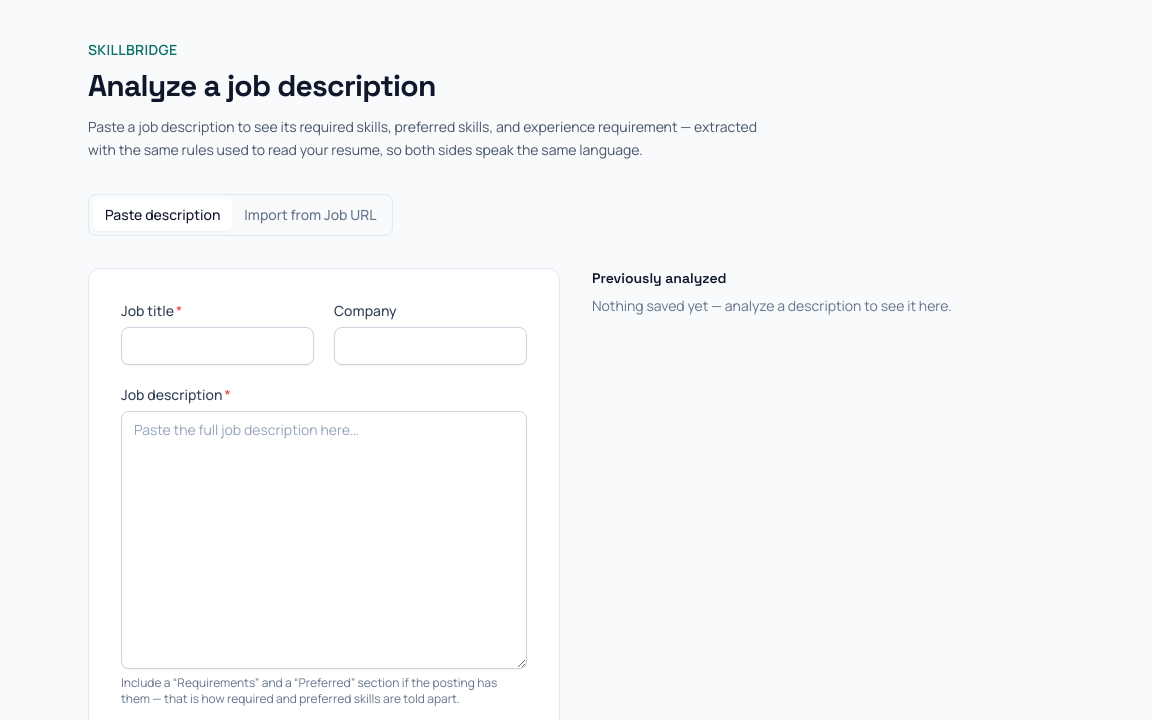
Scenario: AnalyzeJobPage › submits a job description and shows the structured analysis
In the field labelled "Job title": (218, 346) [121,326,314,364], type "Backend Engineer"
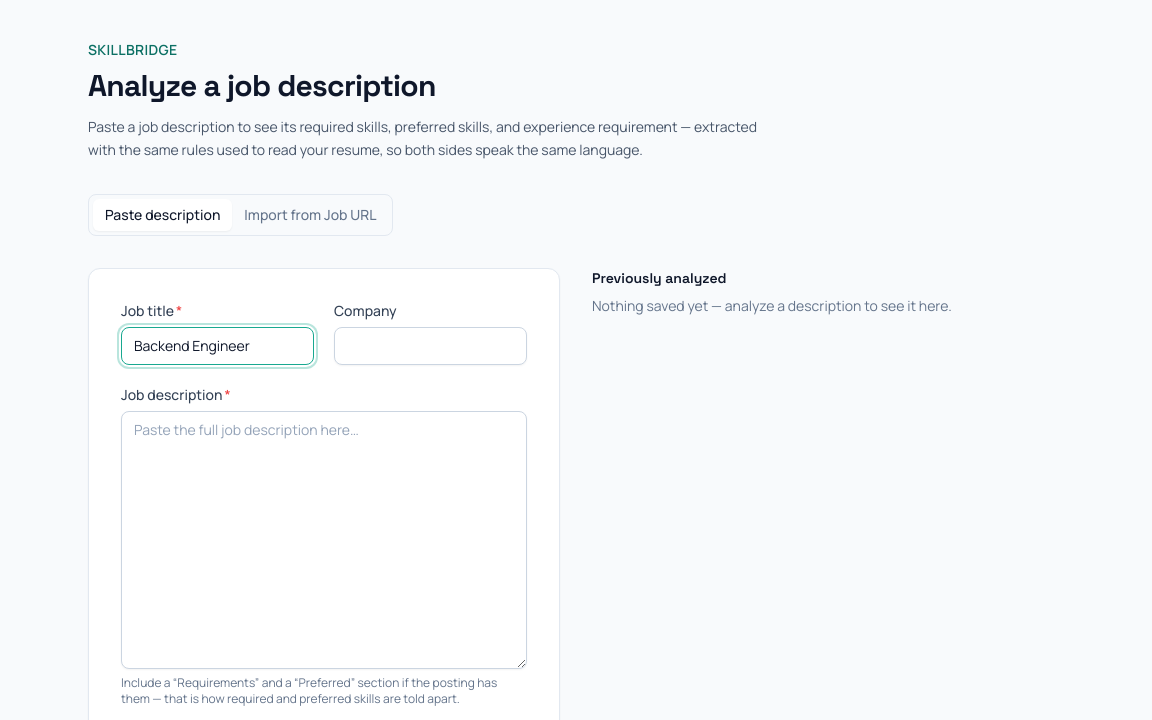
In the text box labelled "Job description": (324, 540) [121,410,527,668], type "Requirements: Python, Docker. Preferred: AWS."
(page scrolled)
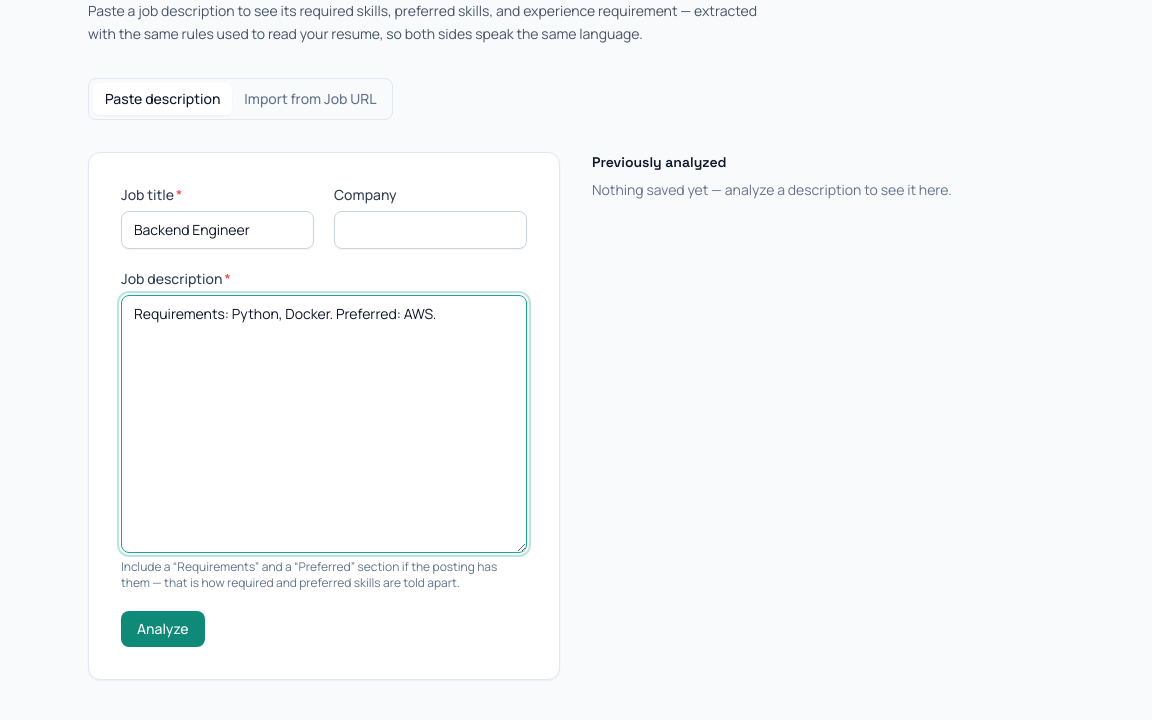
Click the button "Analyze": click(163, 628) [121,610,204,646]
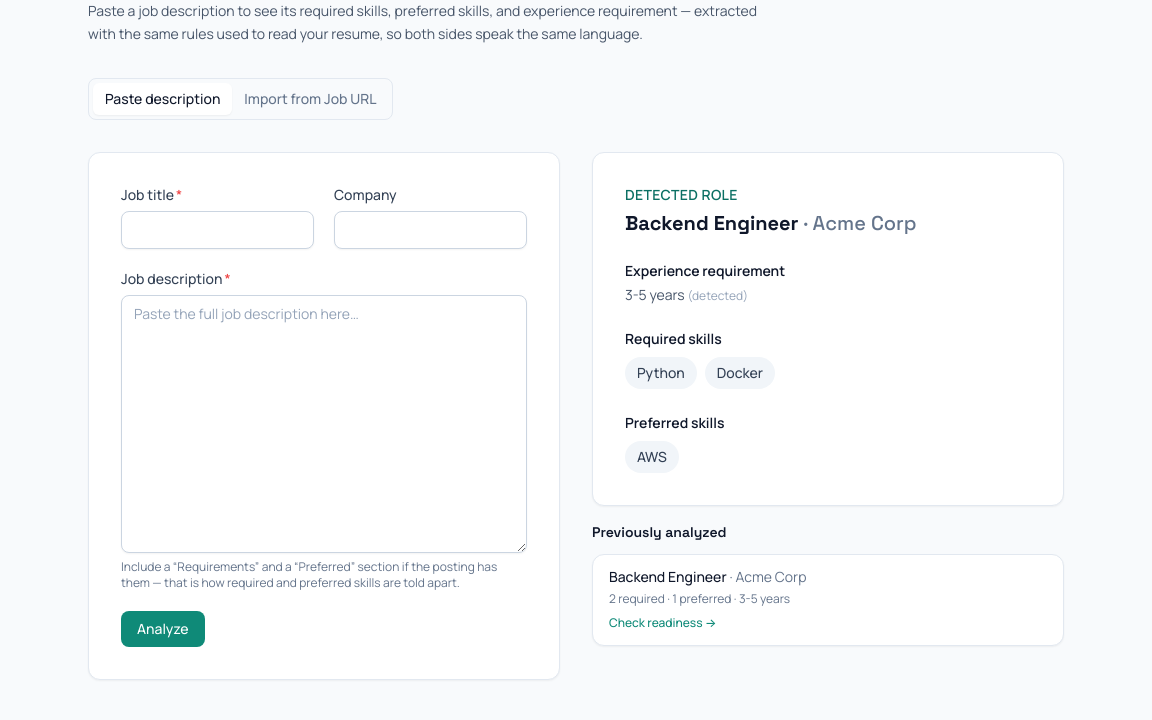
Now the text "Detected role" is shown, box [625,184,738,204]
Now the text "3-5 years (detected)" is shown, box [625,284,748,304]
Now the text "Python" is shown, box [625,356,697,388]
